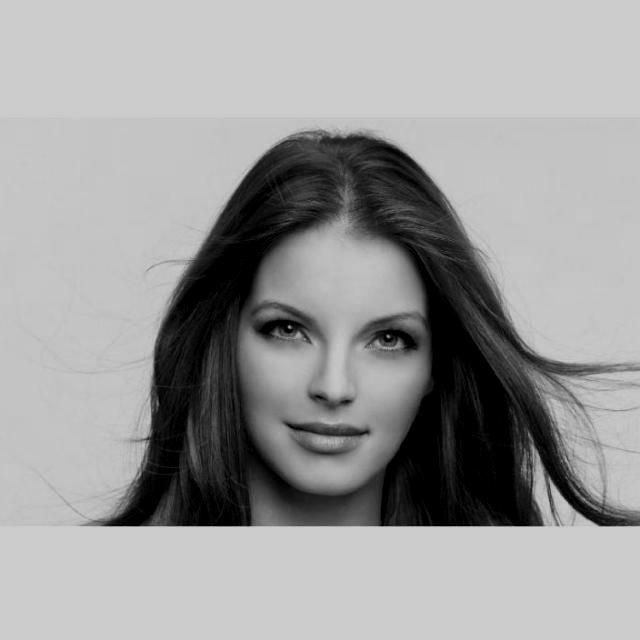real: (220, 202, 443, 506)
